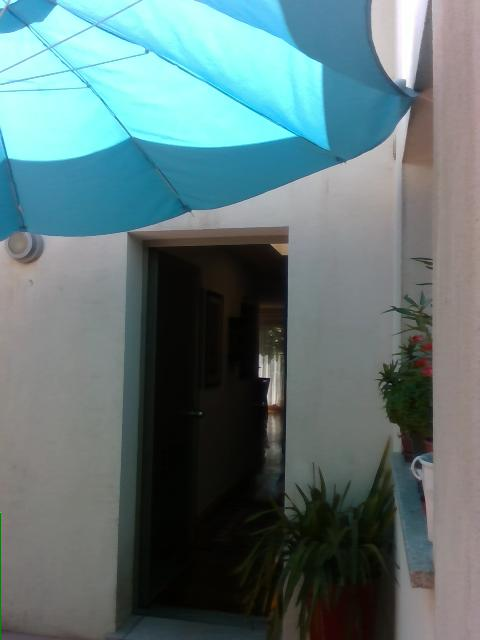open_door: (115, 224, 289, 639)
